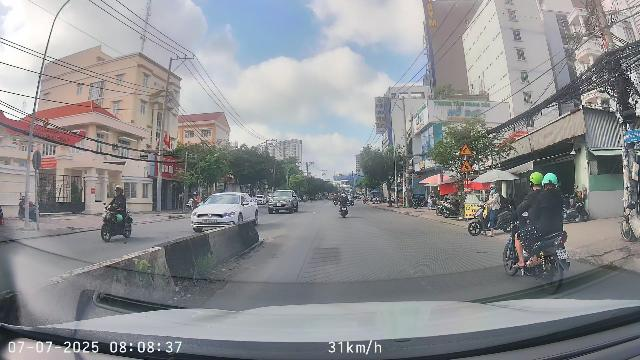201-cho-ngoat-nguy-hiem: (459, 142, 472, 155)
225-chu-y-tre-em: (460, 160, 473, 172)
